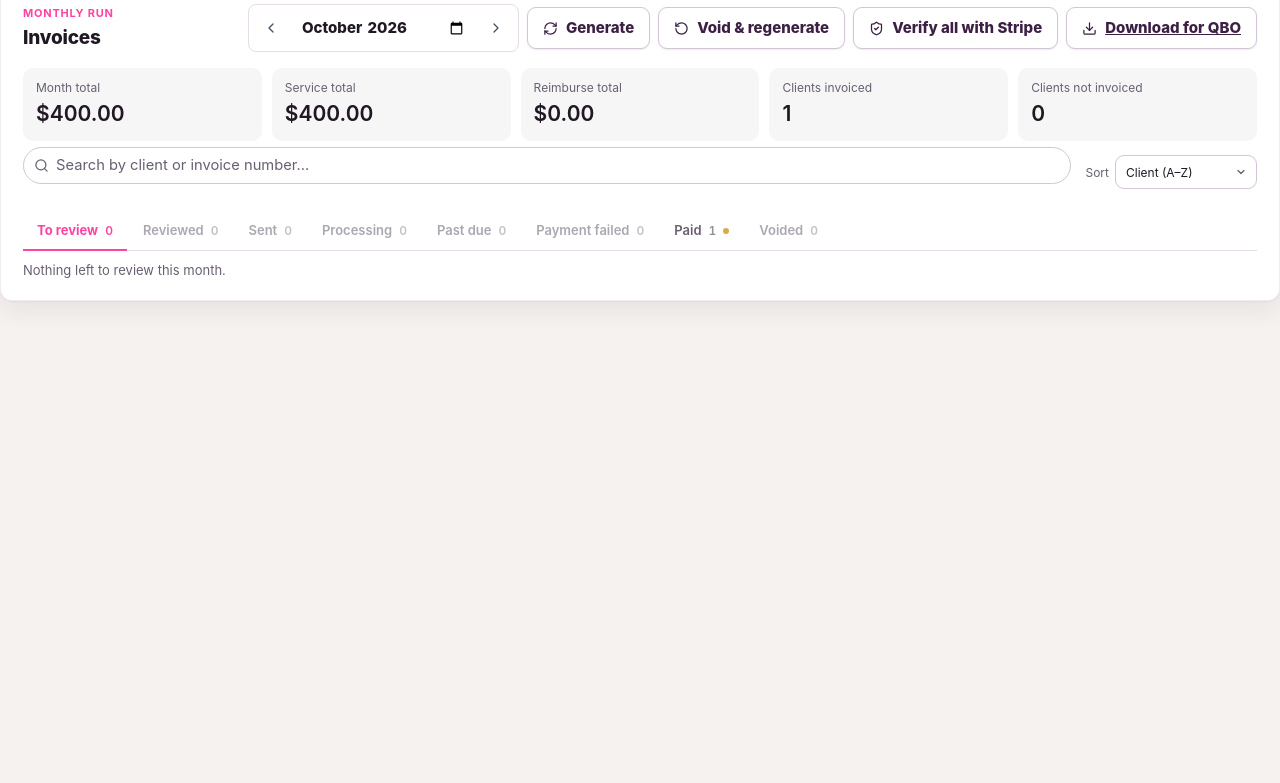
it: a payment for a different amount than the invoice total › renders the notice with both amounts in the open editor
Click the tab "Paid 1": point(702, 232) [660,212,743,251]
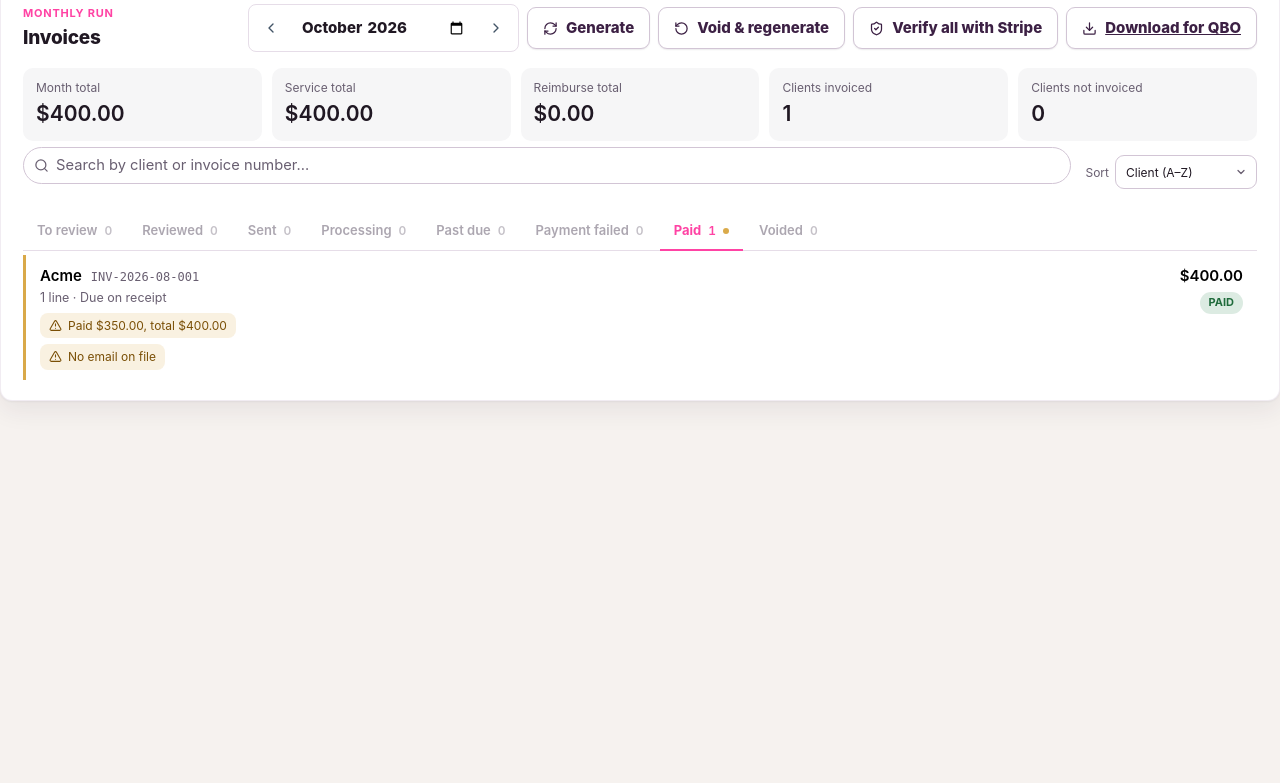
Click the text "INV-2026-08-001": point(145, 278) [91,269,199,286]
(page scrolled)
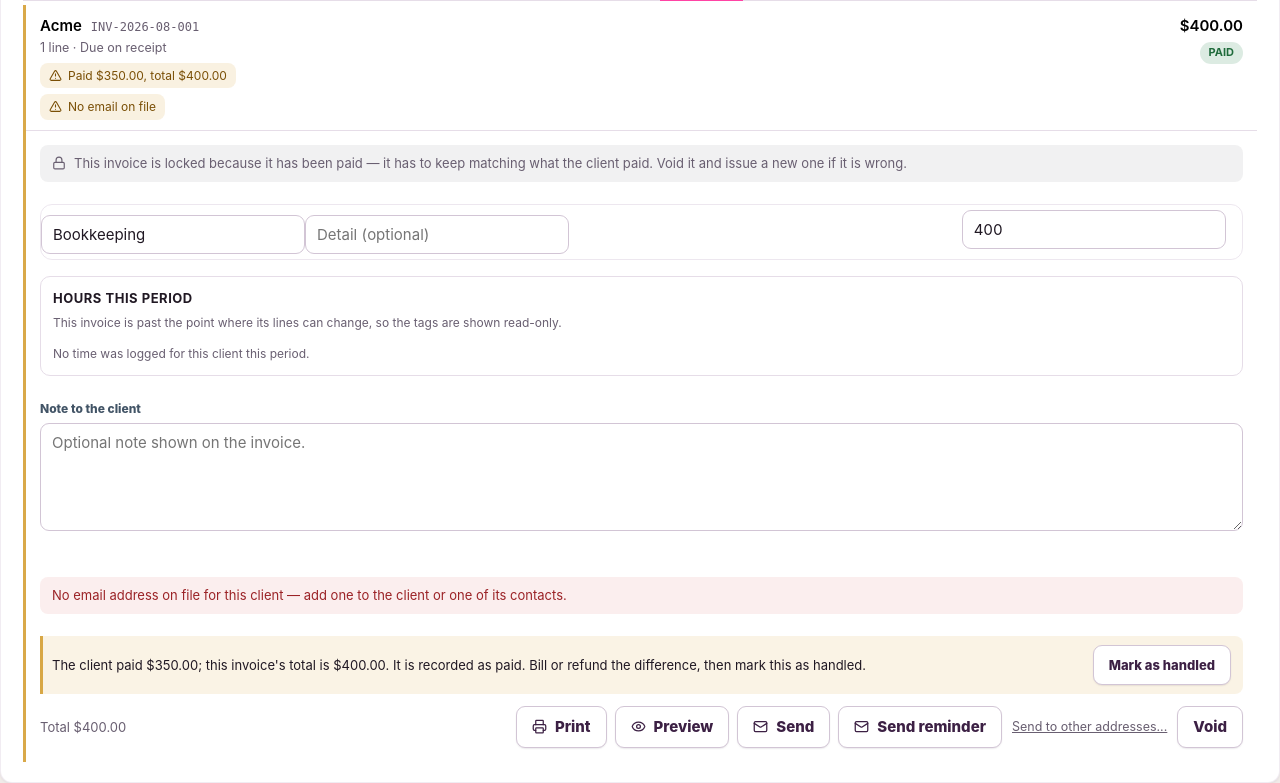
Expected: the text "The client paid $350.00; this invoice's total is $400.00. It is recorded as paid. Bill or refund the difference, then ma" is shown, [52,657,866,673]
Expected: the button "Mark as handled" is shown, [1093,645,1231,685]
